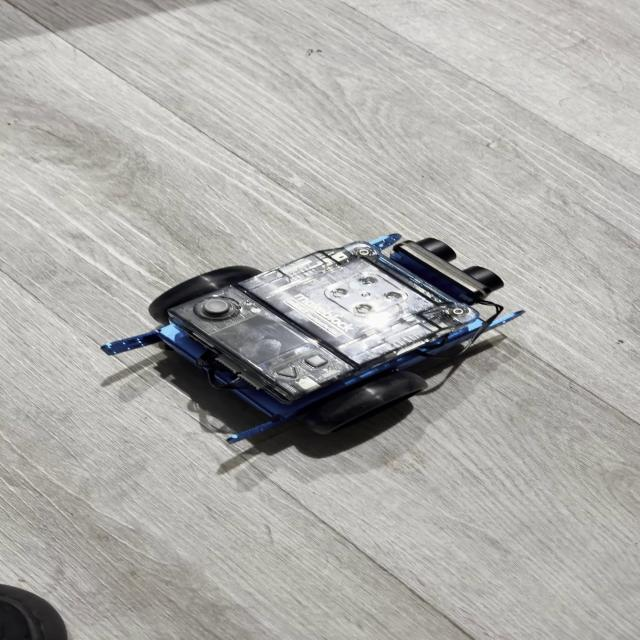mbot-detection: (89, 226, 533, 448)
